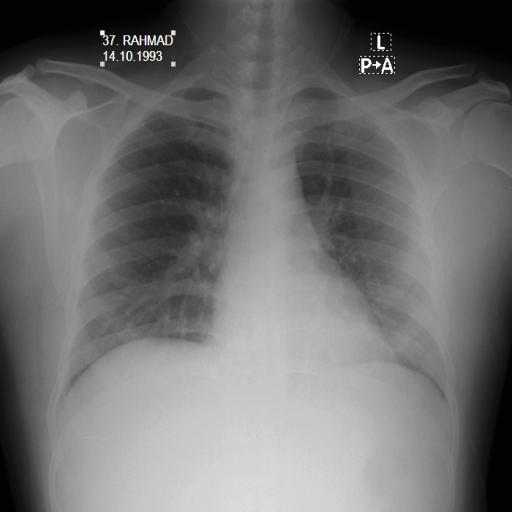normal: (52, 42, 457, 426)
